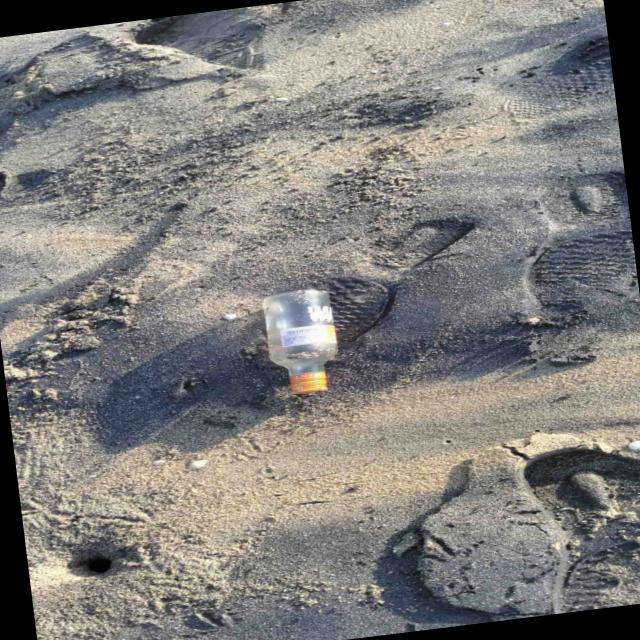chai_thuy_tinh: (261, 289, 336, 395)
